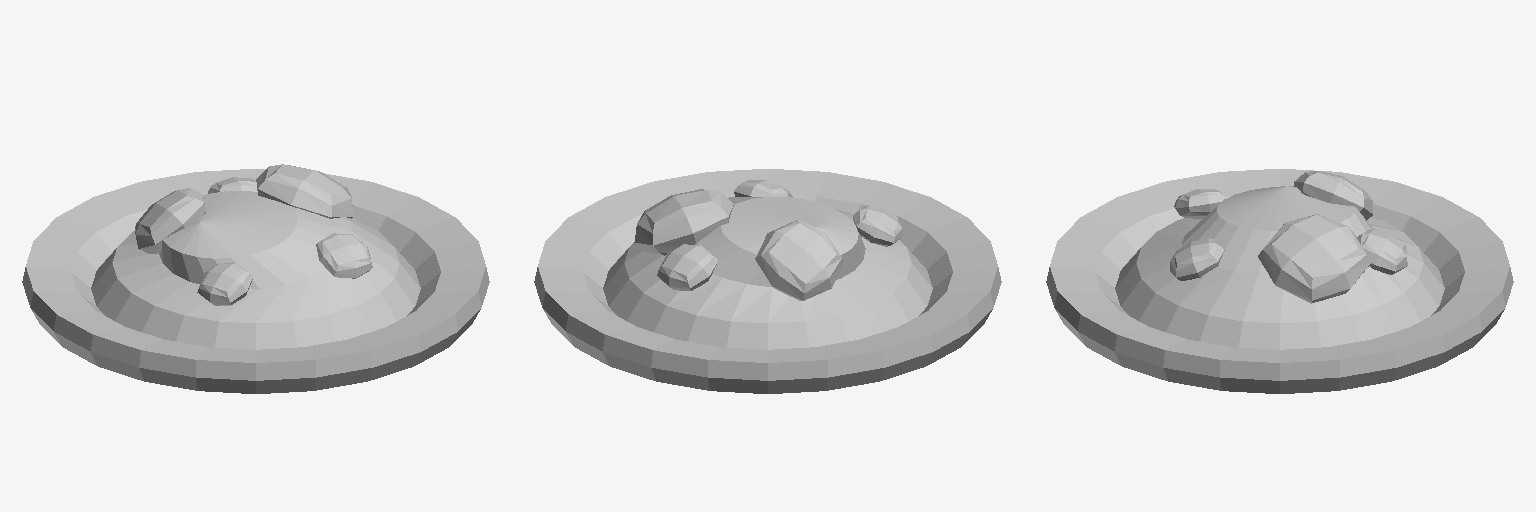
File: plateFull.obj
3 views of the same model, side by side, from view 1: azimuth 30°, elevation 25°; view 2: azimuth 150°, elevation 25°; view 3: azimuth 270°, elevation 25° (orthographic).
Parts seen in each view (by area): view 1: plateFull_Cylinder.251; view 2: plateFull_Cylinder.251; view 3: plateFull_Cylinder.251.
Part boxes in pixels (x1,y1,x2,y2): plateFull_Cylinder.251: (22, 164, 489, 393); plateFull_Cylinder.251: (534, 169, 1001, 393); plateFull_Cylinder.251: (1046, 169, 1513, 393).
Size of the model in its own units: 0.6587 by 0.1855 by 0.6587.